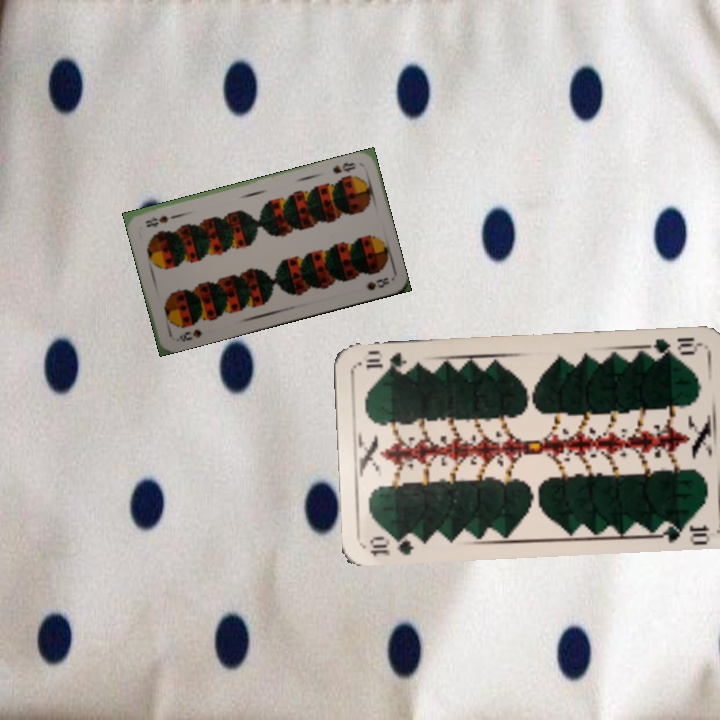G10: (645, 333, 704, 360), (366, 531, 416, 559)
S8: (172, 325, 204, 344), (328, 158, 359, 176)
